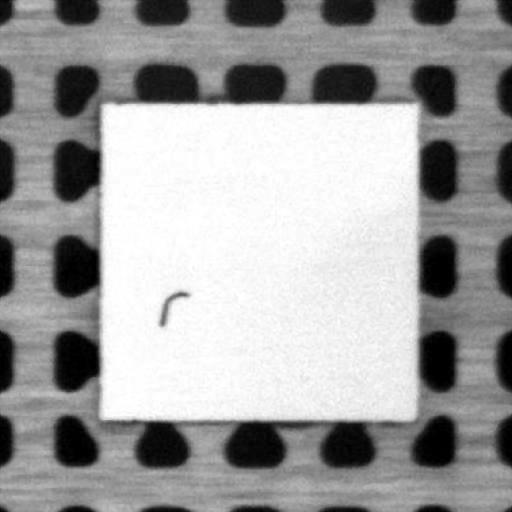DIE_INK: (156, 288, 191, 324)
